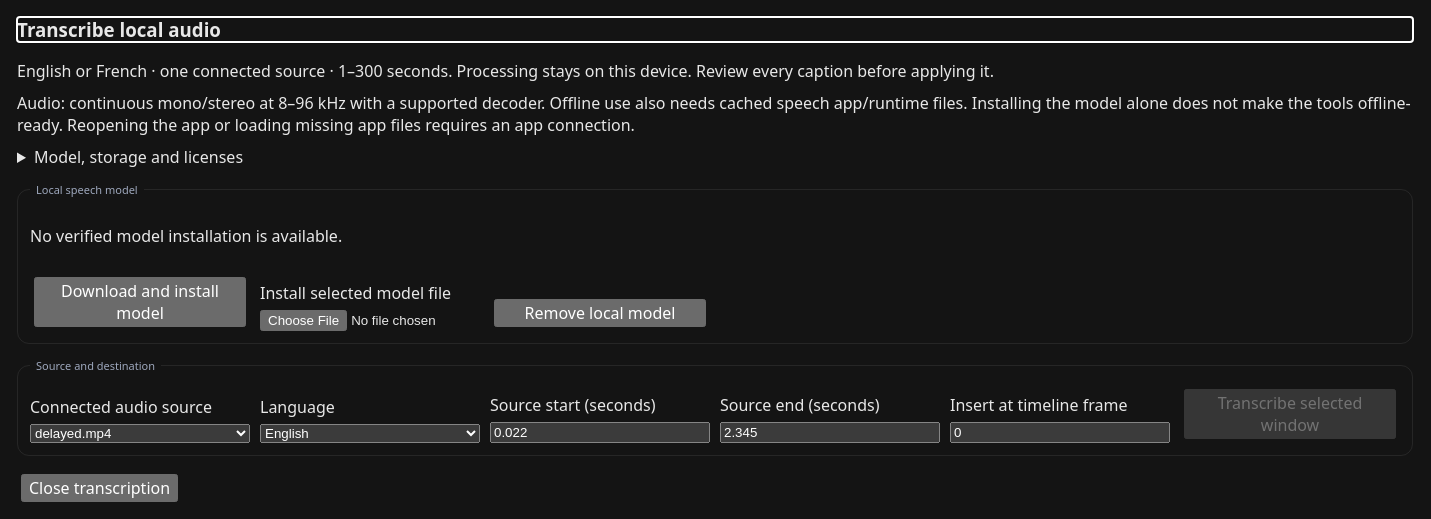
default window follows audio bounds when video starts earlier or lasts longer
Expected: the number field labelled "Source start (seconds)" holds "0.022", [490,422,710,443]
Expected: the number field labelled "Source end (seconds)" holds "2.345", [720,422,940,443]
Select "later.mp4" in the dropdown labelled "Connected audio source" at (140, 434), box [30,424,250,443]
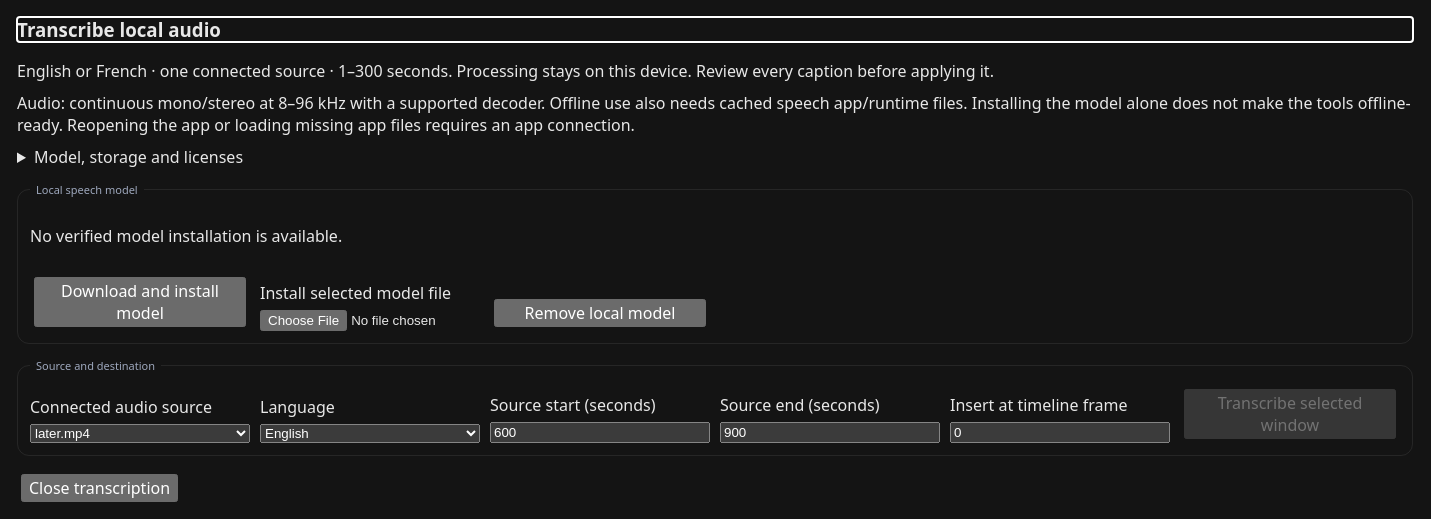
Expected: the number field labelled "Source start (seconds)" holds "600", [490,422,710,443]
Expected: the number field labelled "Source end (seconds)" holds "900", [720,422,940,443]
